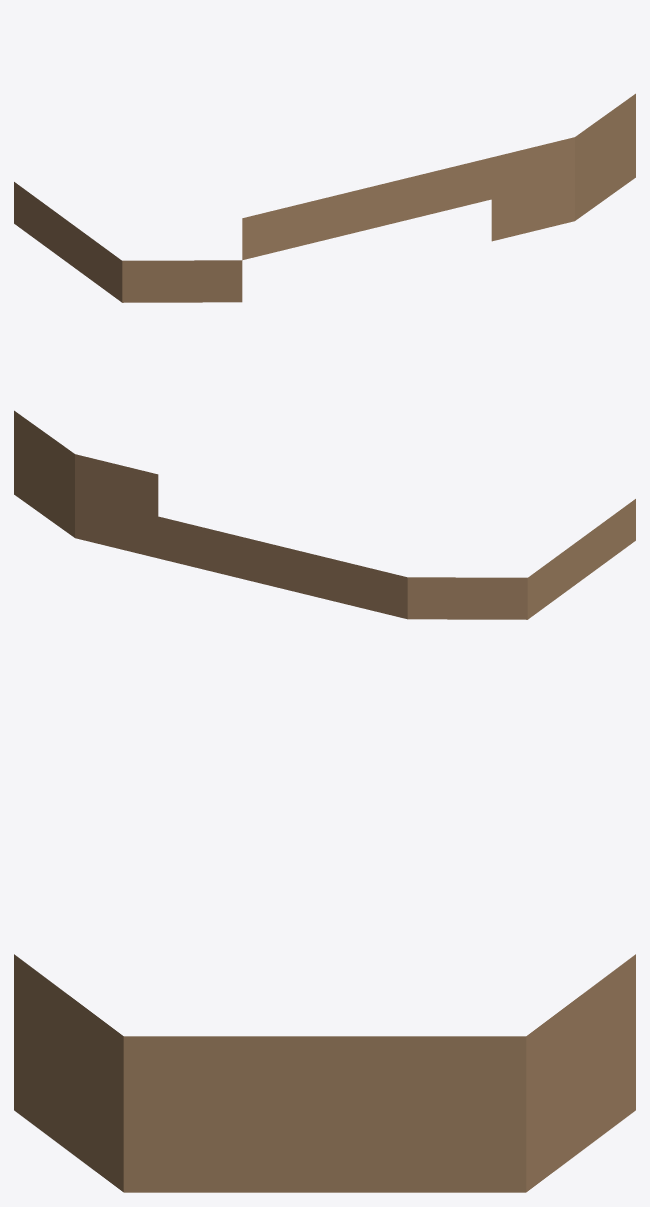
Rendered from 1428-Buildings-shell-pieces-facade-bay-wall-round-an-opening-reveals-sill-head-emitBa.glb.
The picture shows the model from 3 angles, top to bottom: view 1: azimuth 30°, elevation 25°; view 2: azimuth 150°, elevation 25°; view 3: azimuth 270°, elevation 25°; orthographic projection. The views are drawn at different scales.
Parts seen in each view (by area): view 1: emitBay; view 2: emitBay; view 3: emitBay.
Boxes of the visible parts, x1=… form: emitBay: x1=14, y1=93, x2=635, y2=302; emitBay: x1=14, y1=410, x2=635, y2=619; emitBay: x1=14, y1=954, x2=635, y2=1192.
Size of the model in its own units: 39 by 6.1 by 22.
